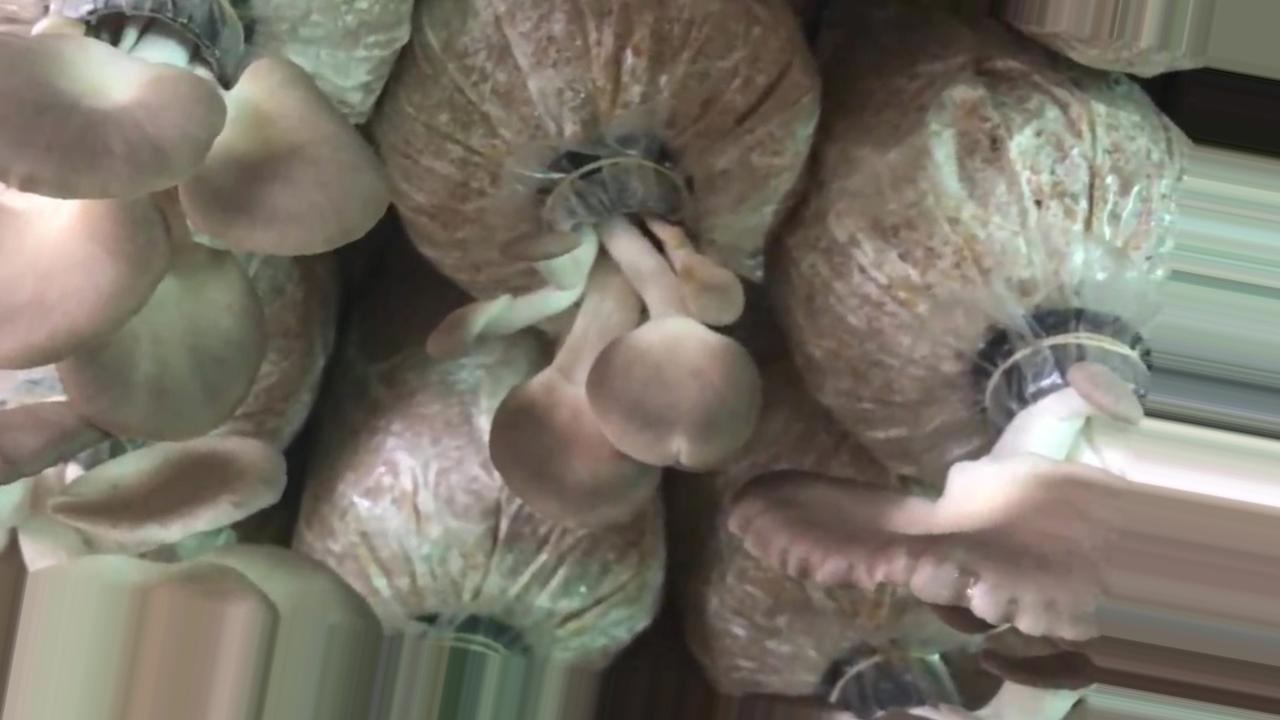nam: (1, 2, 396, 438), (430, 150, 766, 524), (732, 321, 1113, 642), (1, 368, 385, 629)
